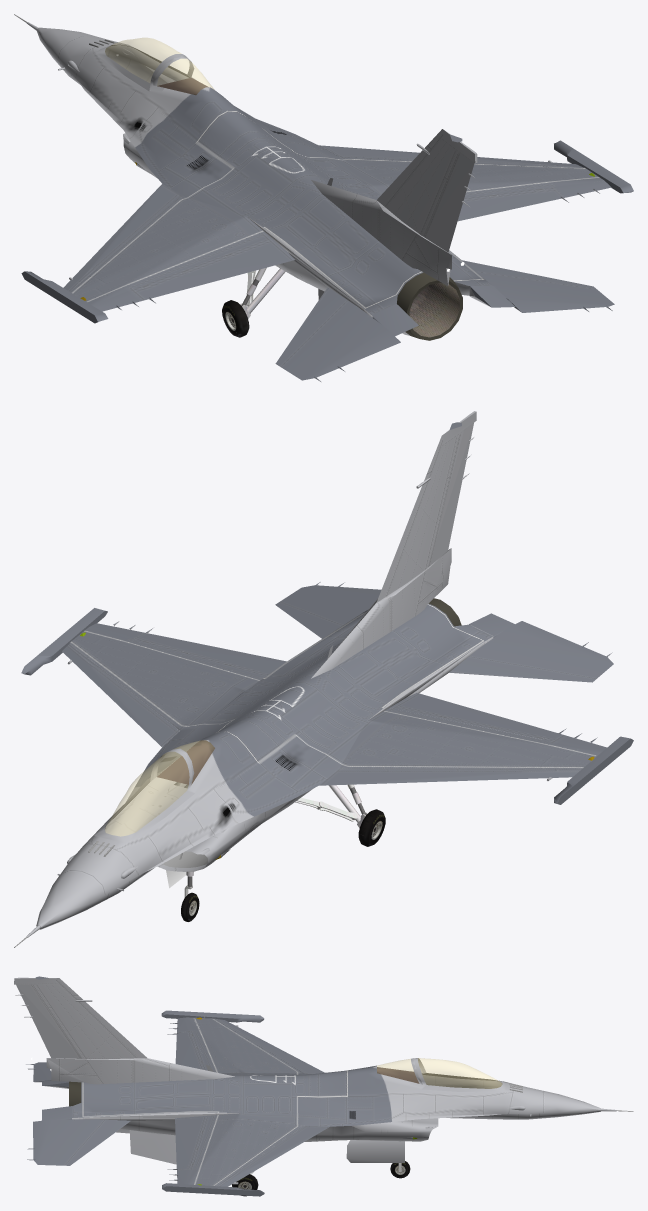
3 renders of one model, top to bottom at view 1: azimuth 30°, elevation 25°; view 2: azimuth 150°, elevation 25°; view 3: azimuth 270°, elevation 25°, orthographic. The views are drawn at different scales.
Parts seen in each view (by area): view 1: RadarDomeTop, LeftUpperHorizonTail, Tail, USAF_Tailroot, RightUpperHorizonTail, LeftUpperFlap, WingTips, LeftUpperLef, Poly.001, CanopyForwardOutside, RightUpperFlap, Rudder.003 (+10 smaller); view 2: RadarDomeTop, LeftUpperHorizonTail, Tail, USAF_Tailroot, CanopyForwardOutside, RightUpperHorizonTail, LeftUpperLef, WingTips, RightUpperLef, LeftUpperFlap, RightUpperFlap, Rudder.003 (+2 smaller); view 3: RadarDomeTop, Tail, USAF_Tailroot, RightUpperHorizonTail, CanopyForwardOutside, WingTips, RightUpperFlap, RightUpperLef, ExternalFrontGearDoor, VentralFins, Rudder.003, LeftUpperLef (+6 smaller).
Part boxes in pixels (x1=…): RadarDomeTop: x1=36, y1=27, x2=604, y2=335; LeftUpperHorizonTail: x1=275, y1=287, x2=400, y2=381; Tail: x1=377, y1=129, x2=477, y2=235; USAF_Tailroot: x1=311, y1=180, x2=451, y2=285; RightUpperHorizonTail: x1=462, y1=260, x2=614, y2=312; LeftUpperFlap: x1=142, y1=236, x2=294, y2=297; WingTips: x1=21, y1=140, x2=633, y2=323; LeftUpperLef: x1=63, y1=184, x2=179, y2=292; Poly.001: x1=409, y1=282, x2=459, y2=337; CanopyForwardOutside: x1=105, y1=37, x2=181, y2=82; RightUpperFlap: x1=457, y1=187, x2=555, y2=221; Rudder.003: x1=423, y1=163, x2=475, y2=252; RadarDomeTop: x1=36, y1=603, x2=601, y2=929; LeftUpperHorizonTail: x1=449, y1=621, x2=613, y2=682; Tail: x1=376, y1=411, x2=476, y2=602; USAF_Tailroot: x1=311, y1=548, x2=451, y2=678; CanopyForwardOutside: x1=105, y1=751, x2=189, y2=836; RightUpperHorizonTail: x1=275, y1=582, x2=381, y2=638; LeftUpperLef: x1=319, y1=768, x2=581, y2=785; WingTips: x1=21, y1=608, x2=633, y2=804; RightUpperLef: x1=62, y1=643, x2=179, y2=746; LeftUpperFlap: x1=389, y1=692, x2=553, y2=739; RightUpperFlap: x1=140, y1=634, x2=286, y2=676; Rudder.003: x1=428, y1=423, x2=474, y2=567; RadarDomeTop: x1=72, y1=1017, x2=601, y2=1185; Tail: x1=14, y1=977, x2=146, y2=1058; USAF_Tailroot: x1=46, y1=1058, x2=234, y2=1084; RightUpperHorizonTail: x1=27, y1=1119, x2=130, y2=1165; CanopyForwardOutside: x1=418, y1=1058, x2=502, y2=1088; WingTips: x1=161, y1=1010, x2=264, y2=1196; RightUpperFlap: x1=175, y1=1115, x2=210, y2=1167; RightUpperLef: x1=216, y1=1125, x2=329, y2=1186; ExternalFrontGearDoor: x1=346, y1=1140, x2=404, y2=1162; VentralFins: x1=129, y1=1130, x2=176, y2=1164; Rudder.003: x1=15, y1=985, x2=81, y2=1058; LeftUpperLef: x1=214, y1=1018, x2=324, y2=1073.
Size of what is drawn, in the model's own units: 9.59 by 5.11 by 14.31.
21 materials, 16 textured.
